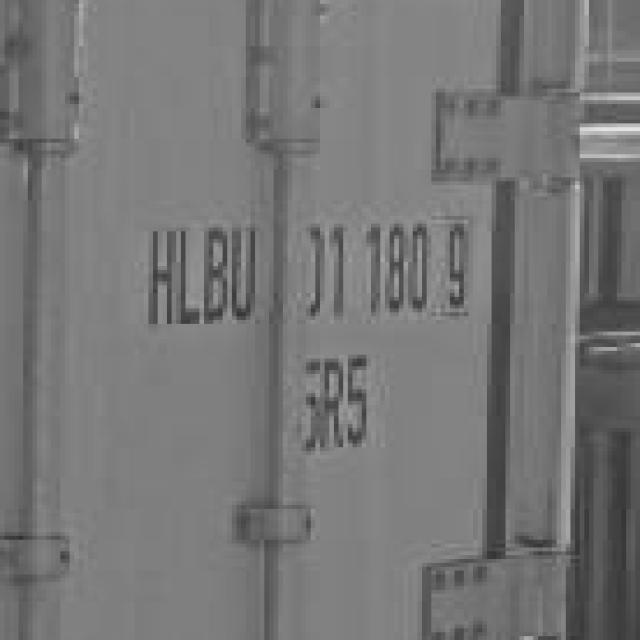dv: (433, 218, 480, 322)
owner: (136, 212, 268, 333)
serial: (298, 216, 431, 325)
size: (277, 352, 379, 452)
